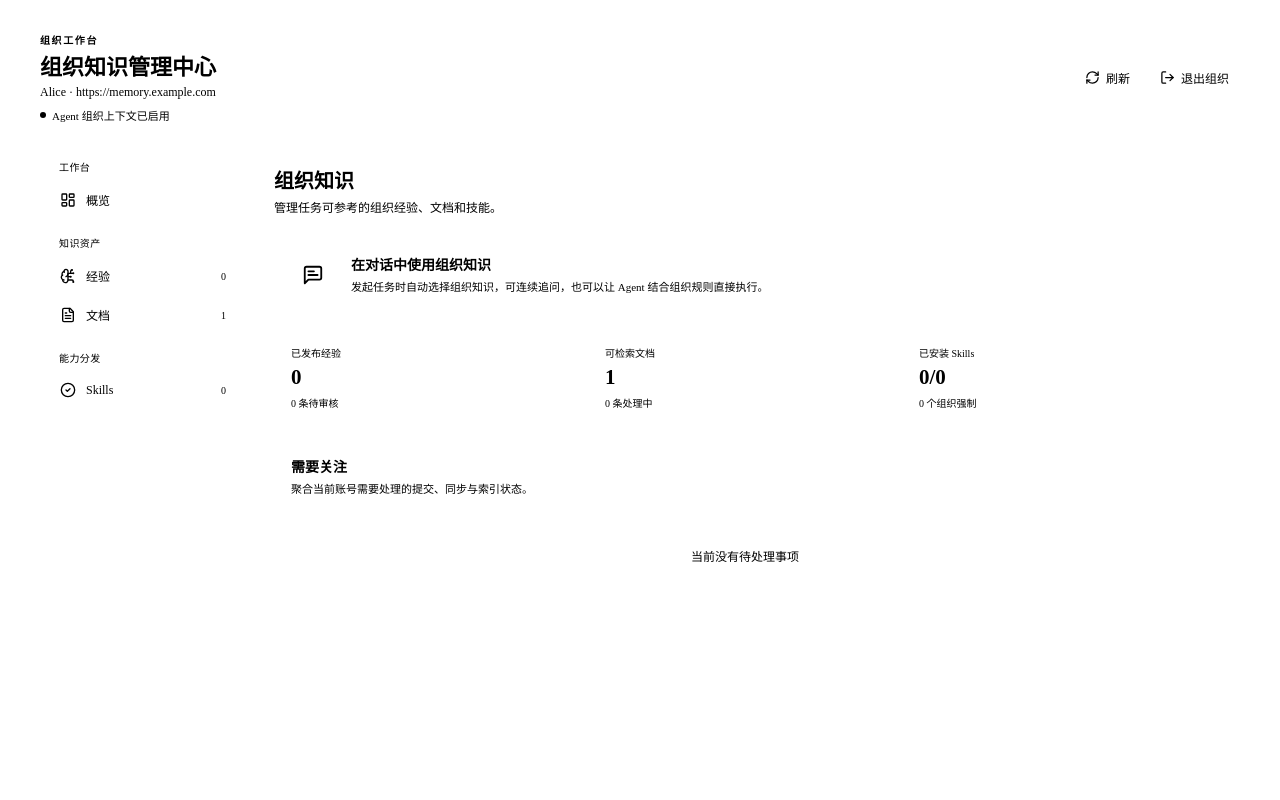
Test case: OrganizationMemoryPanel › docx 文档优先显示服务端解析内容
The width and height of the screenshot is (1280, 800).
Expected: the text "Alice · https://memory.example.com" is shown, [40,85,216,100]
Click the button "文档 1": (143, 315) [50,297,236,333]
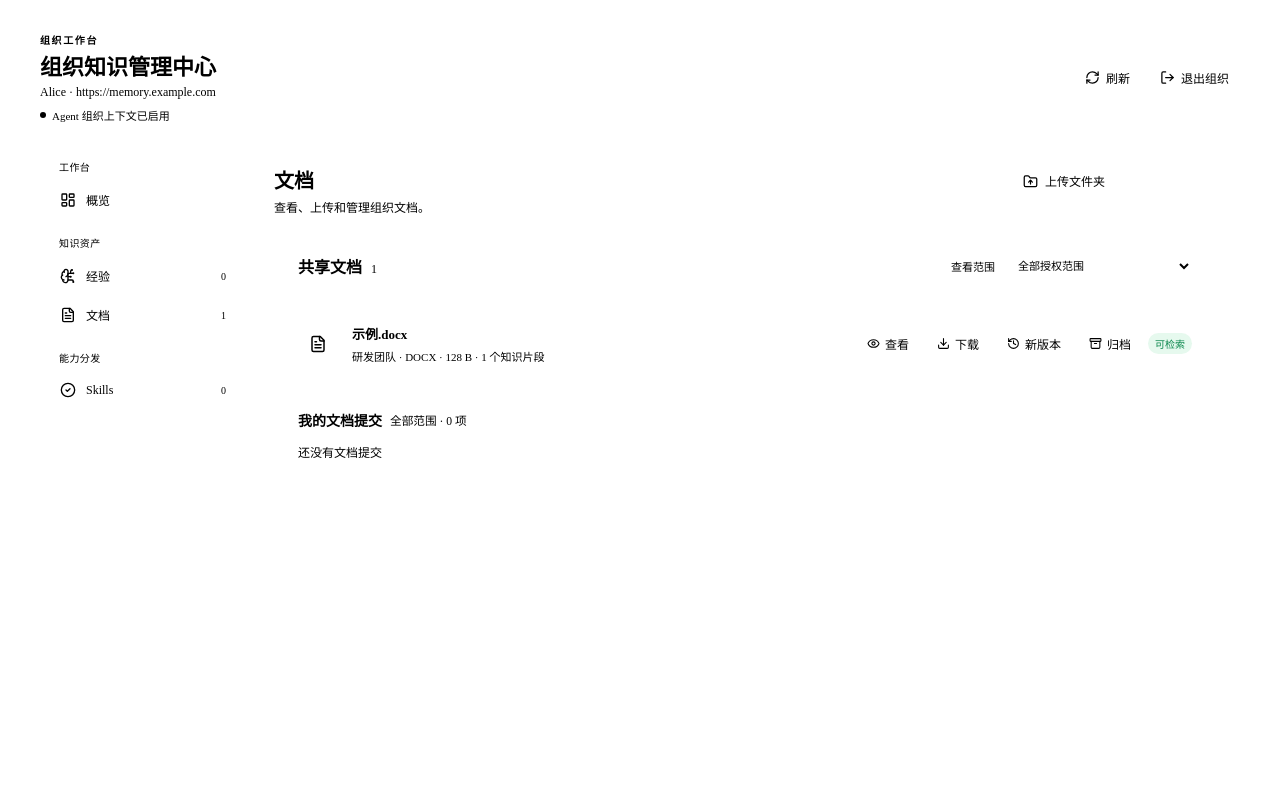
Click the button "查看": (888, 344) [856,328,920,360]
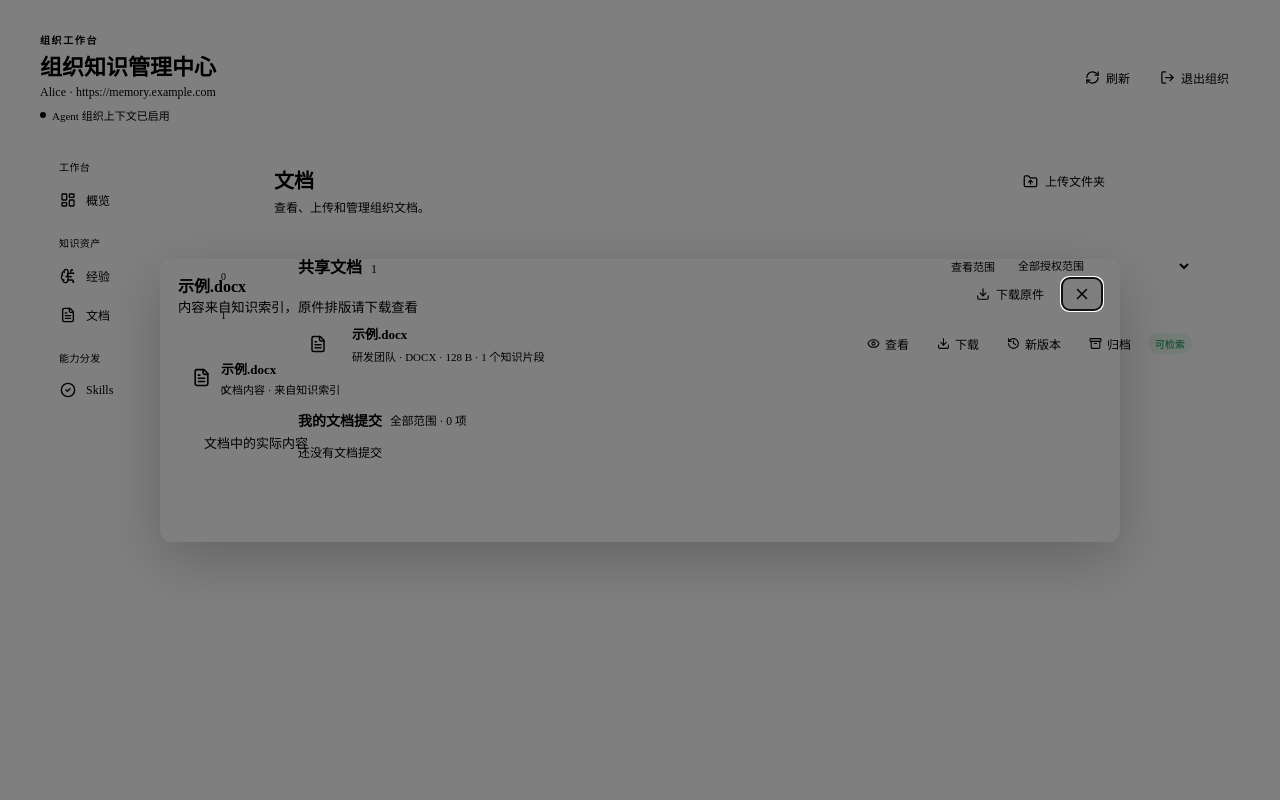
Expected: the text "文档中的实际内容" is shown, [204,436,308,450]
Expected: the button "下载原件" is shown, [965,278,1055,310]
